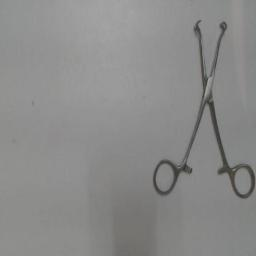Babcock Tissue Forceps: (148, 16, 256, 204)
